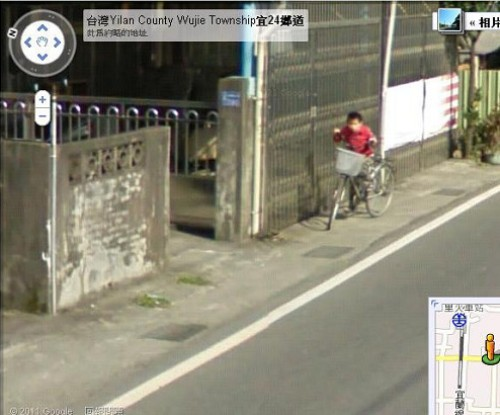people: (335, 111, 377, 206)
